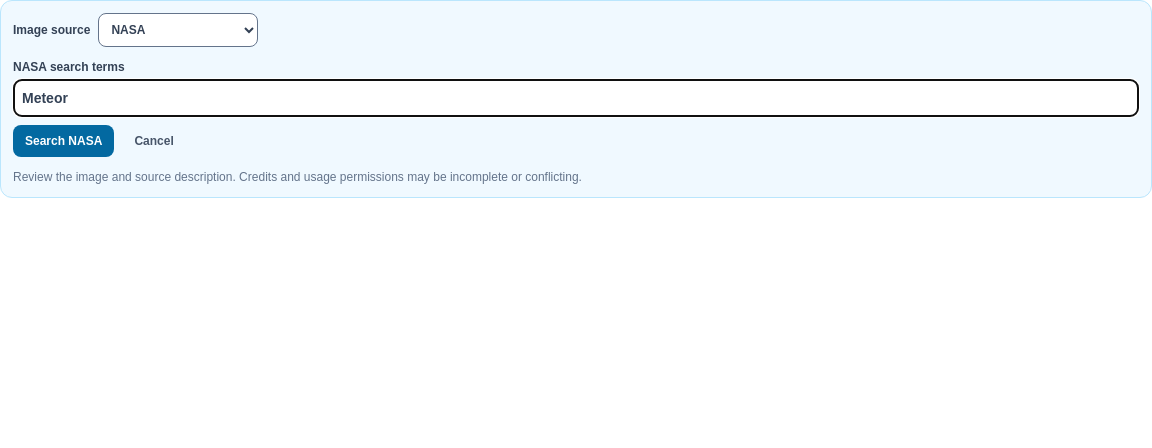
it: unavailable Commons results › words a single unavailable result in the singular
The width and height of the screenshot is (1152, 448).
Select "Wikimedia Commons" in the dropdown labelled "Image source" at coordinates (178, 30), box [98,13,258,47]
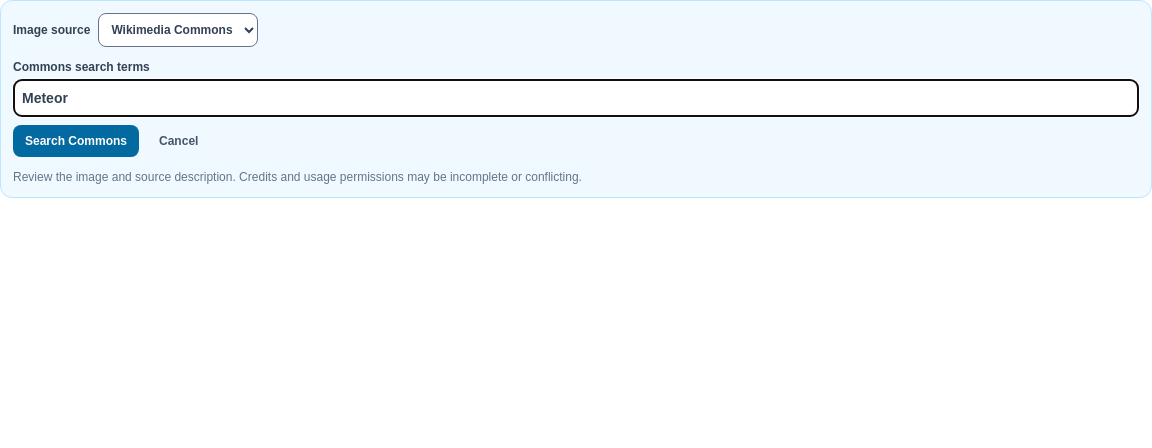
Click the button "Search Commons" at coordinates (76, 141), box [13,125,139,157]
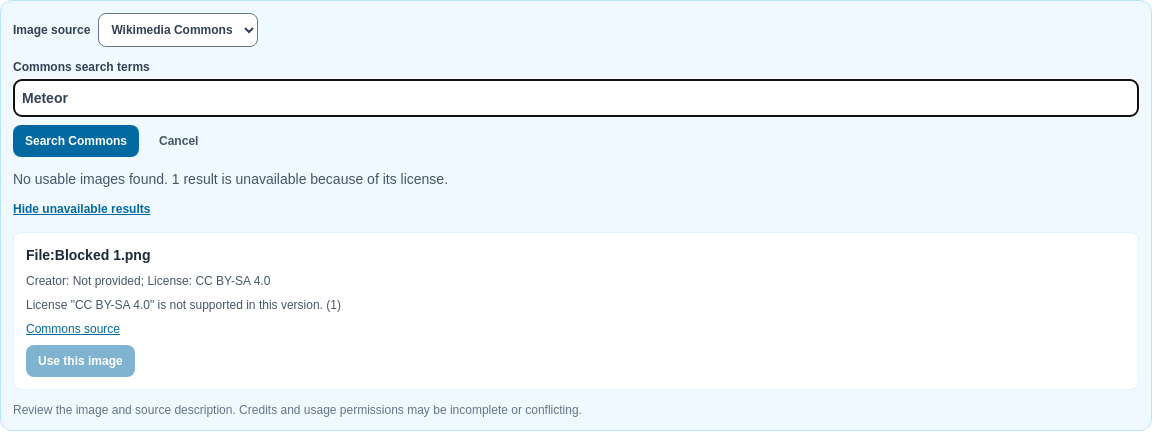
Result: the text "No usable images found. 1 result is unavailable because of its license." is shown at [13,171,448,187]
